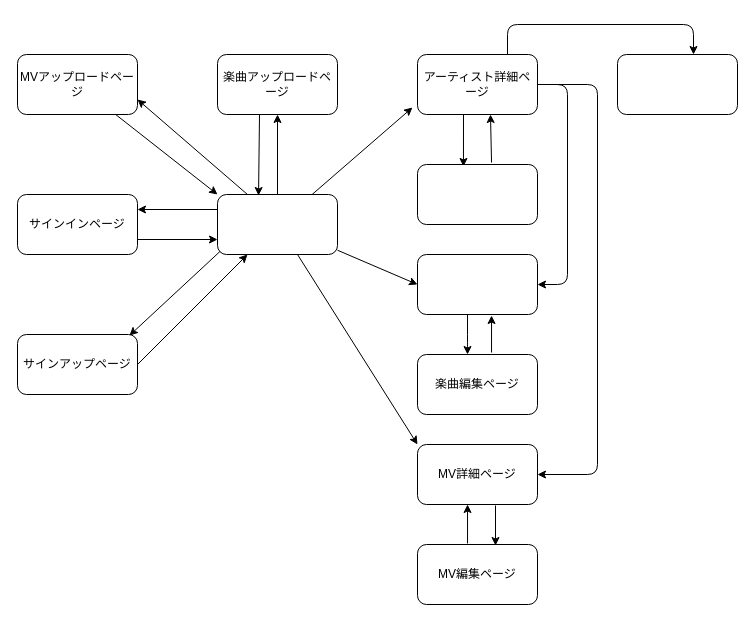
The diagram is 755 pixels wide and 622 high, and some of its shapes have lost their labels. Here are the shapes that lost their labels. From the top down, the box of each, then its label:
(616, 54, 738, 114): Website E-mail Twitter Instagramの各ページ
(416, 164, 538, 224): アーティスト編集ページ
(216, 194, 338, 254): Topページ
(416, 254, 538, 314): 楽曲詳細ページ
